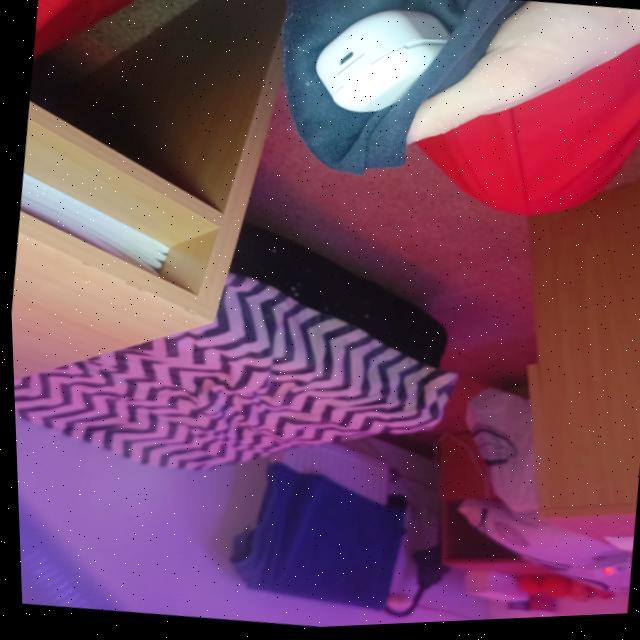headphones: (314, 12, 448, 114)
